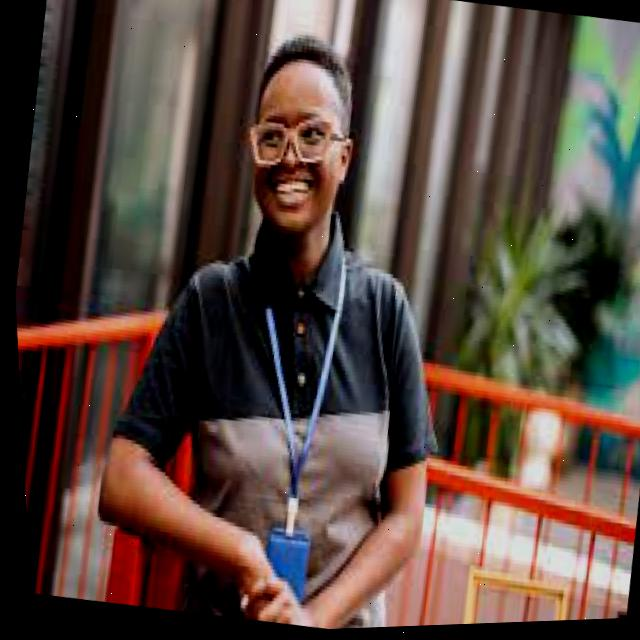id_card: (215, 297, 365, 591)
